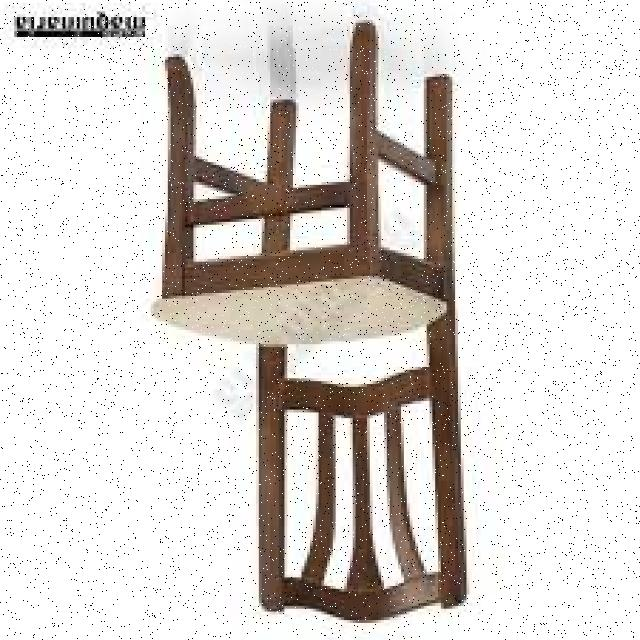bottle: (151, 17, 472, 629)
